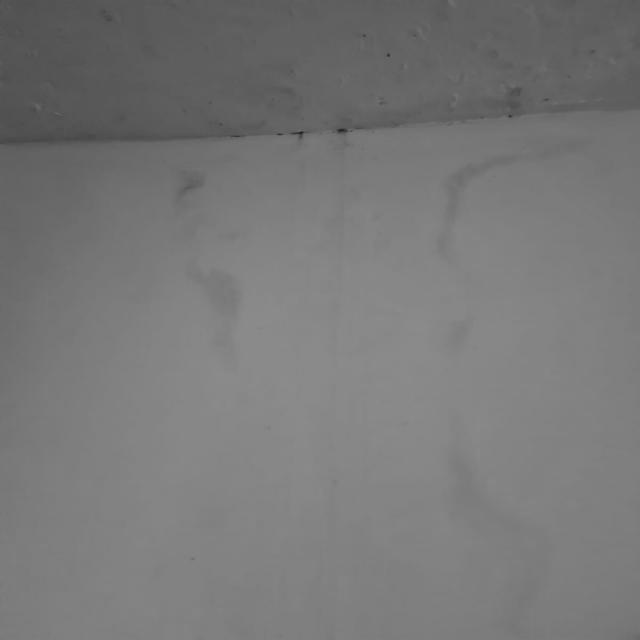stain marks: (0, 0, 640, 143), (417, 148, 548, 640), (0, 152, 260, 370), (315, 138, 407, 561)
